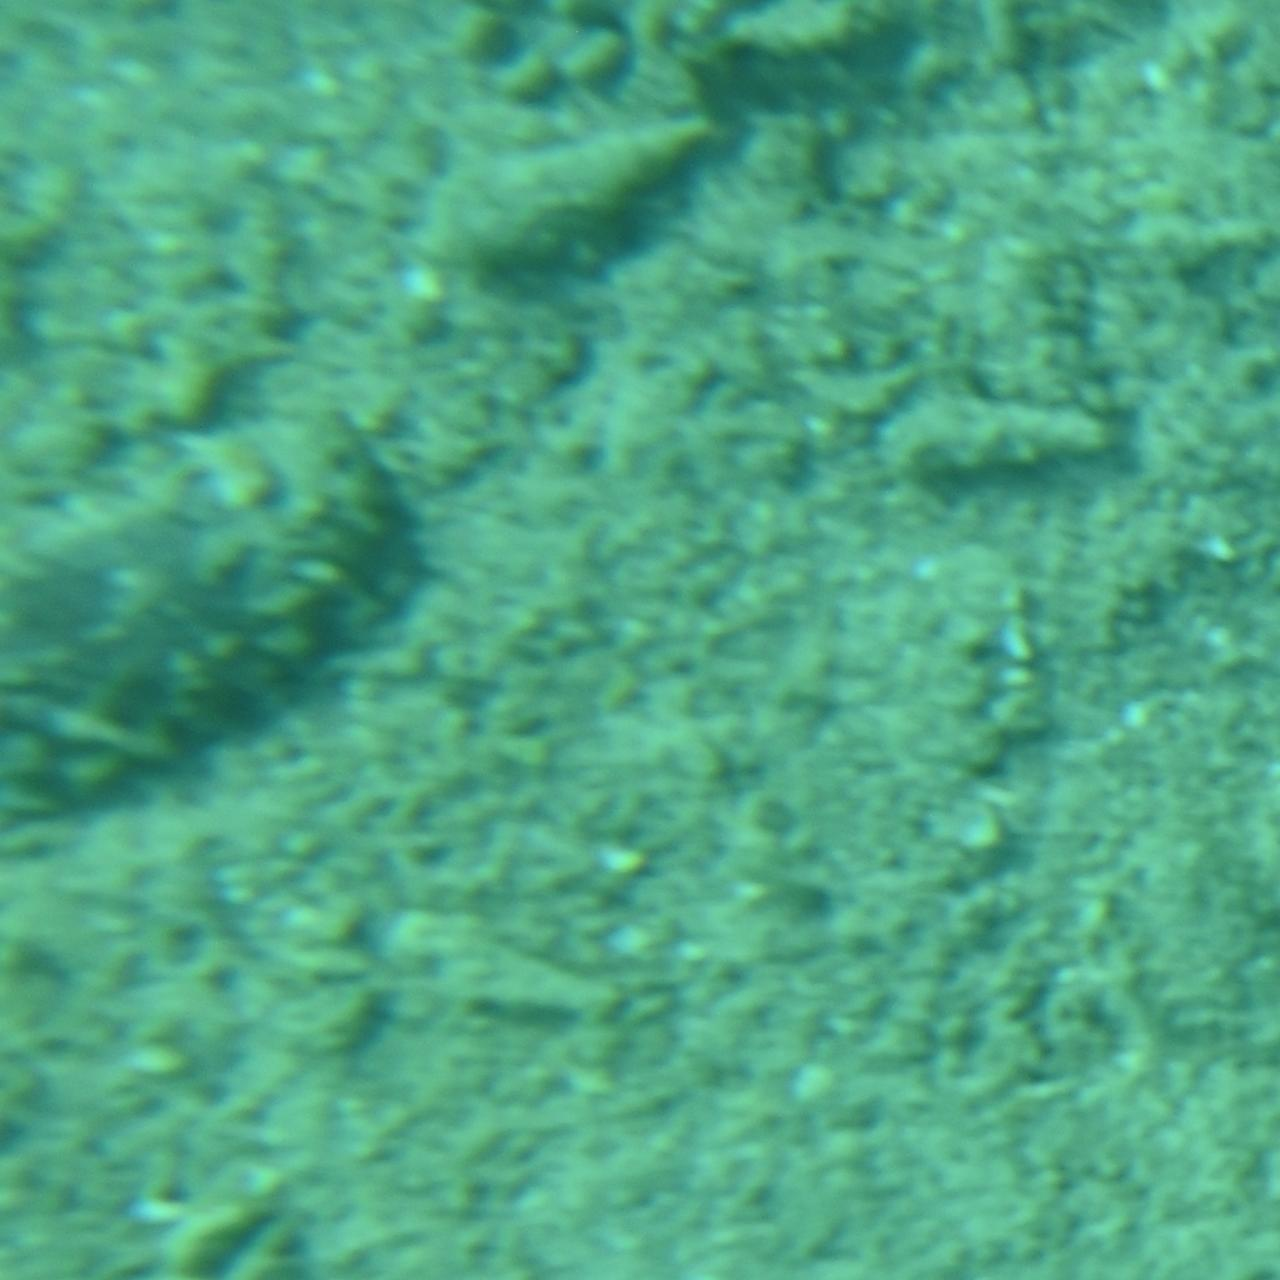Holothuria tubulosa: (2, 394, 441, 886)
